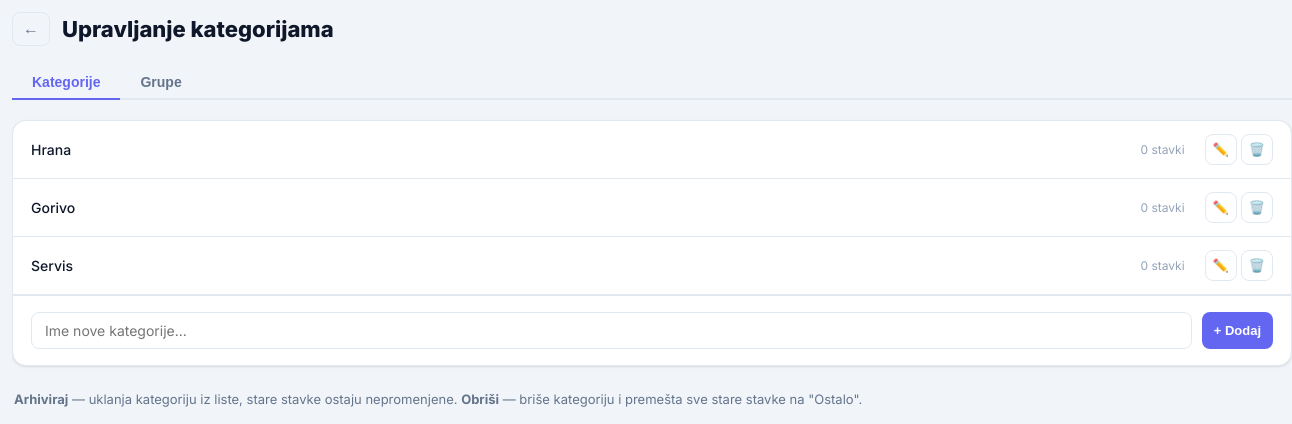
Test: CategoryManager — Grupe tab rename › clicking ✏️ on a group shows rename input
What coordinates should you click on to do the following:
click the button "Grupe"
I would click on:
 (161, 83)
Its box is [120,66,202,100].
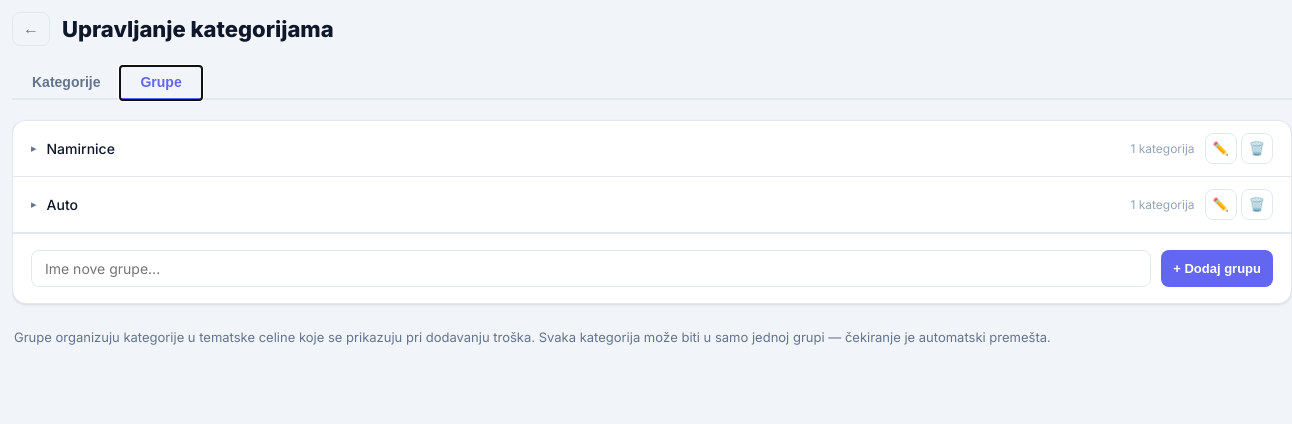
What coordinates should you click on to do the following:
click the 1st button titled "Preimenuj grupu"
I would click on:
 (1221, 148)
Its box is [1205,133,1237,164].
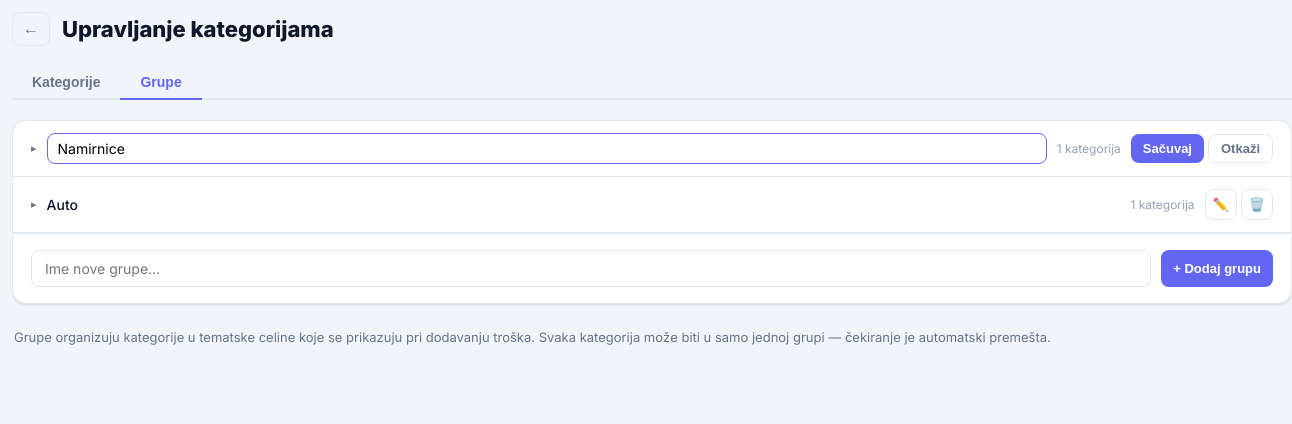
expect the field showing "Namirnice" is shown: met, box [46,133,1047,164]
